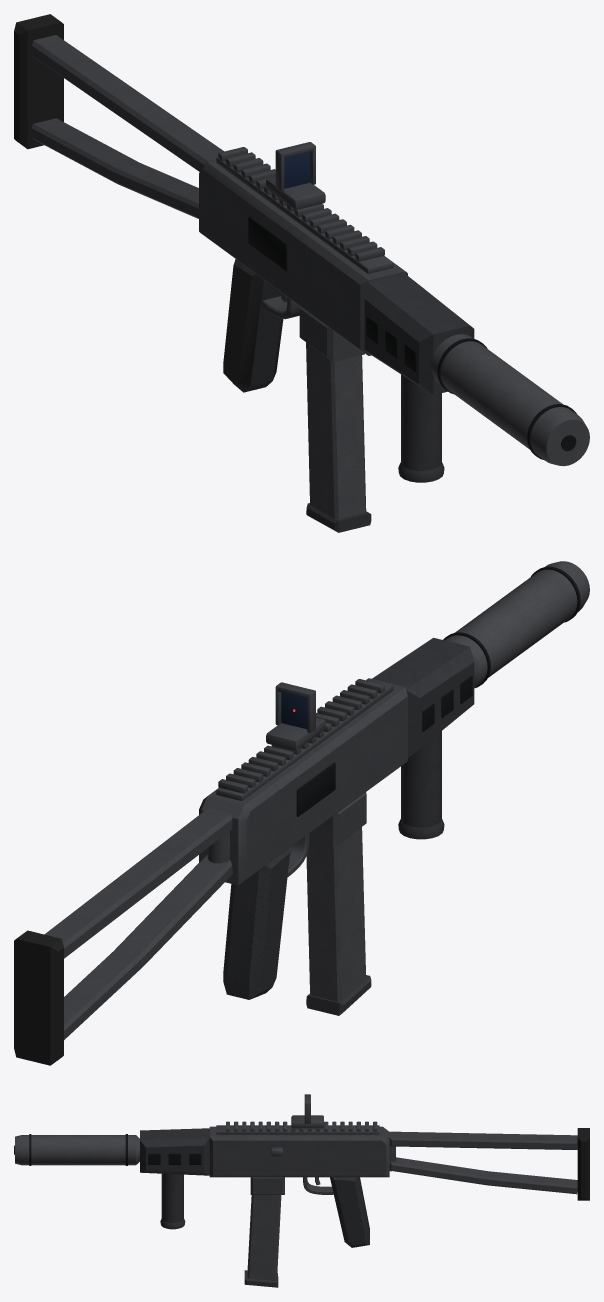
Rendered from submachine-gun.glb.
3 views of the same model, one above another, from view 1: azimuth 30°, elevation 25°; view 2: azimuth 150°, elevation 25°; view 3: azimuth 270°, elevation 25° (orthographic). The views are drawn at different scales.
Parts seen in each view (by area): view 1: SMG, Magazine; view 2: SMG, Magazine; view 3: SMG, Magazine.
Part boxes in pixels (x1=…): SMG: x1=14, y1=14, x2=589, y2=482; Magazine: x1=306, y1=342, x2=371, y2=532; SMG: x1=14, y1=561, x2=589, y2=1065; Magazine: x1=306, y1=827, x2=371, y2=1015; SMG: x1=14, y1=1094, x2=589, y2=1247; Magazine: x1=244, y1=1195, x2=281, y2=1287.
Size of the model in its own units: 0.0517 by 0.2495 by 0.7042.
Materials: 8 (4 with a texture image).
